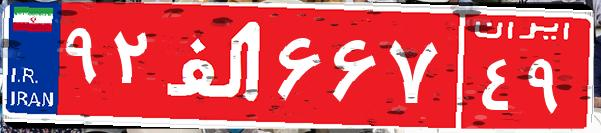2: (110, 28, 158, 105)
4: (475, 38, 525, 113)
6: (273, 28, 330, 110), (330, 28, 385, 110)
7: (385, 28, 445, 110)
9: (57, 26, 110, 107), (525, 38, 570, 115)
الف: (158, 15, 273, 115)
